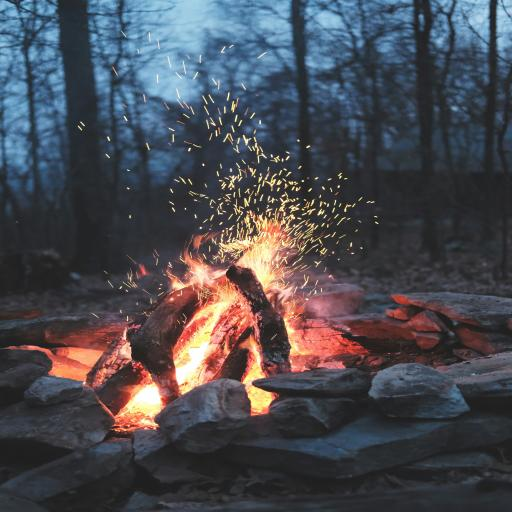campfire: (13, 33, 474, 451)
